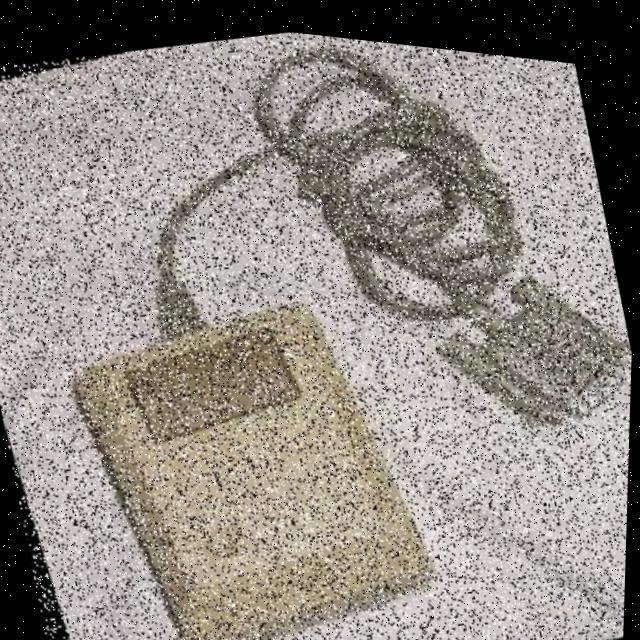mause: (15, 212, 520, 640)
